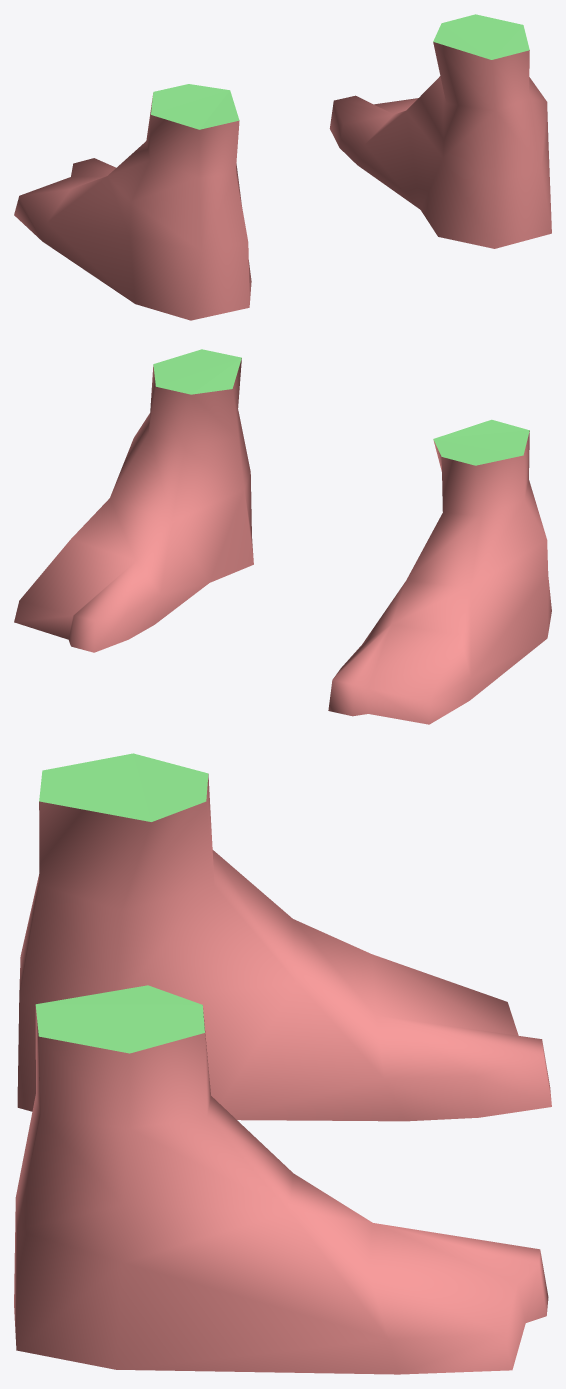
File: SSQ_statue01_b04.gltf
The picture shows the model from 3 angles, top to bottom: view 1: azimuth 30°, elevation 25°; view 2: azimuth 150°, elevation 25°; view 3: azimuth 270°, elevation 25°; orthographic projection. The views are drawn at different scales.
Parts seen in each view (by area): view 1: SSQ_statue01_b04; view 2: SSQ_statue01_b04; view 3: SSQ_statue01_b04.
Part boxes in pixels (x1,y1,x2,y2): SSQ_statue01_b04: [14, 14, 551, 320]; SSQ_statue01_b04: [14, 349, 551, 724]; SSQ_statue01_b04: [14, 753, 551, 1374].
Bounding box in the file's own units: 0.4385 × 0.18 × 0.2881.
